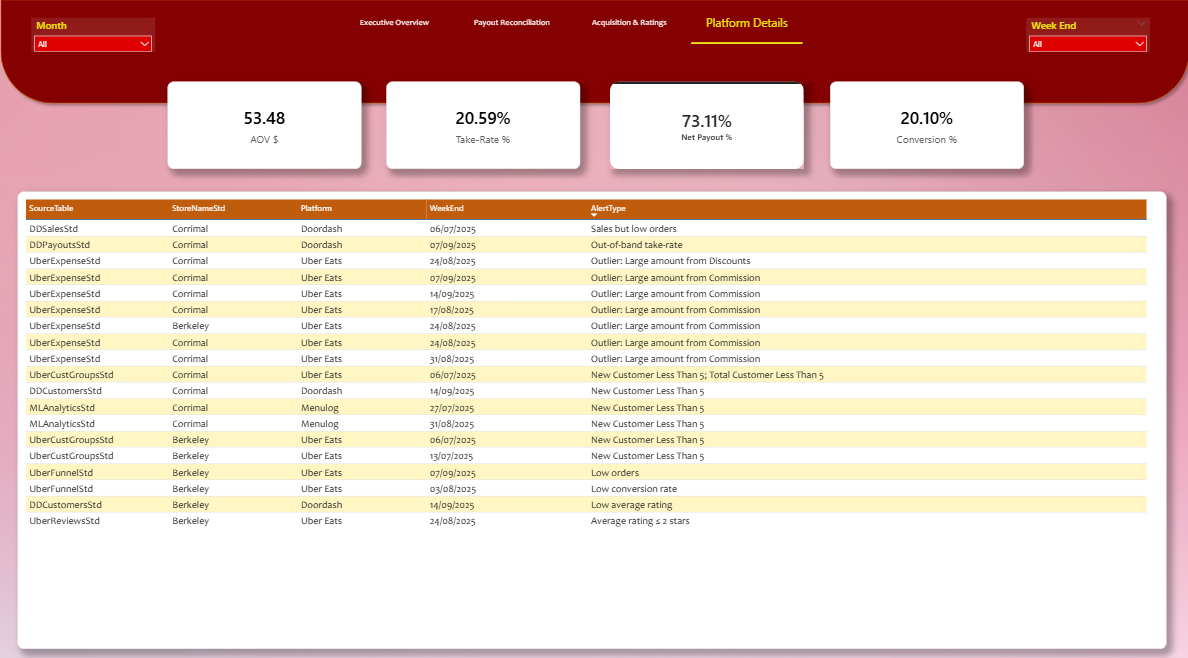

What the dashboard file says about the page in this screenshot:
{"tool":"powerbi","page":{"name":"Platform Details","canvas":[1920,1080],"ordinal":3},"visuals":[{"type":"shape","box":[0,0,1920,184],"z":0},{"type":"pageNavigator","box":[550,10,742,70],"z":8000},{"type":"slicer","fields":{"Values":["DimWeek.MonthName"]},"box":[58,38,198,54],"z":9000},{"type":"slicer","fields":{"Values":["DimWeek.WeekEnd"]},"box":[1650,38,198,54],"z":10000},{"type":"card","fields":{"Values":["_Measures.AOV"]},"box":[276,140,310,140],"z":11000,"group":"g1"},{"type":"tableEx","fields":{"Values":["DQ_Alerts.SourceTable","DQ_Alerts.StoreNameStd","DQ_Alerts.Platform","DQ_Alerts.WeekEnd","DQ_Alerts.AlertType"]},"box":[36,316,1838,732],"z":11000},{"type":"group","id":"g1","title":"Group 1","box":[276,140,1370,140],"z":12000},{"type":"card","fields":{"Values":["_Measures.Take-Rate %"]},"box":[626,140,310,140],"z":12000,"group":"g1"},{"type":"cardVisual","fields":{"Data":["_Measures.Net Payout %"]},"box":[984,140,310,140],"z":13000,"group":"g1"},{"type":"card","fields":{"Values":["_Measures.Conversion %"]},"box":[1336,140,310,140],"z":14000,"group":"g1"}]}

Visuals, with their boxes in screenshot pixels (x1, y1, x2, y2), scaled from the page's 1920x1080 canvas onto the 1188x658 screenshot:
shape: [left=0, top=0, right=1187, bottom=112]
pageNavigator: [left=340, top=6, right=799, bottom=49]
slicer - DimWeek.MonthName: [left=36, top=23, right=158, bottom=56]
slicer - DimWeek.WeekEnd: [left=1021, top=23, right=1143, bottom=56]
card - _Measures.AOV: [left=171, top=85, right=363, bottom=171]
tableEx - DQ_Alerts.SourceTable x DQ_Alerts.StoreNameStd: [left=22, top=193, right=1160, bottom=639]
"Group 1" group: [left=171, top=85, right=1018, bottom=171]
card - _Measures.Take-Rate %: [left=387, top=85, right=579, bottom=171]
cardVisual - _Measures.Net Payout %: [left=609, top=85, right=801, bottom=171]
card - _Measures.Conversion %: [left=827, top=85, right=1018, bottom=171]
